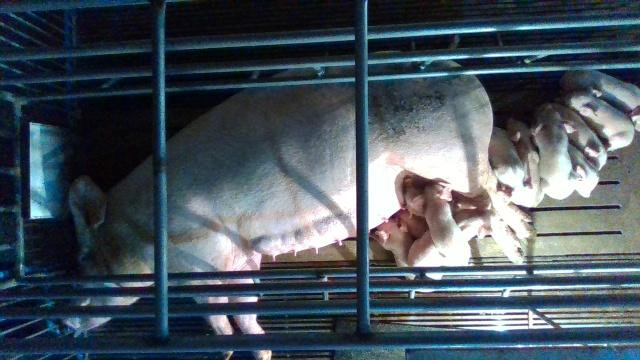piglet: (412, 180, 471, 264), (564, 70, 640, 133), (409, 209, 488, 266), (568, 87, 632, 148), (535, 103, 575, 198), (489, 125, 535, 207), (555, 99, 608, 169), (508, 116, 544, 209), (371, 219, 419, 279), (566, 146, 599, 200)
sow-sleep-lactate: (62, 59, 532, 360)
